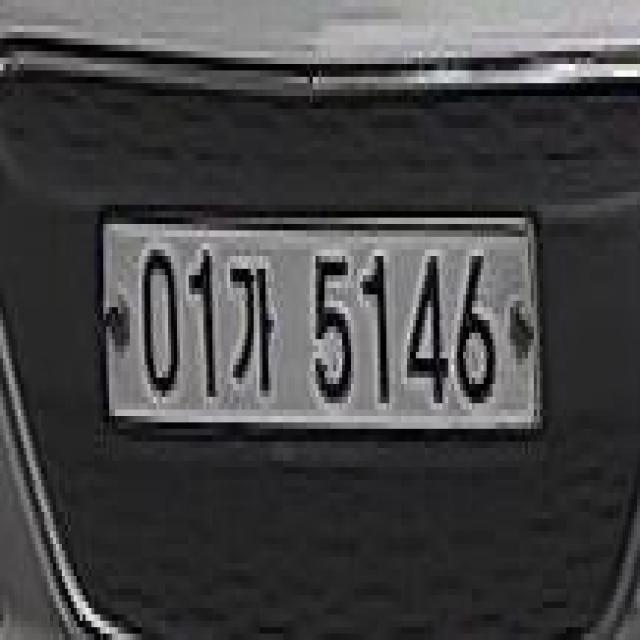illegal_plate: (95, 198, 540, 466)
